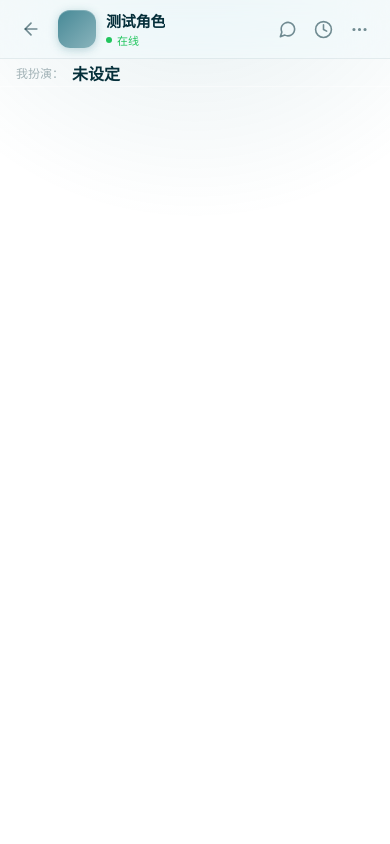
Test: 记忆面板：没配齐自己的 key 时给引导 › 没配齐也能看到已有记忆
The width and height of the screenshot is (390, 844).
What coordinates should you click on to do the following:
click the button named "更多"
I would click on:
 (359, 29)
Its box is [342,12,376,46].
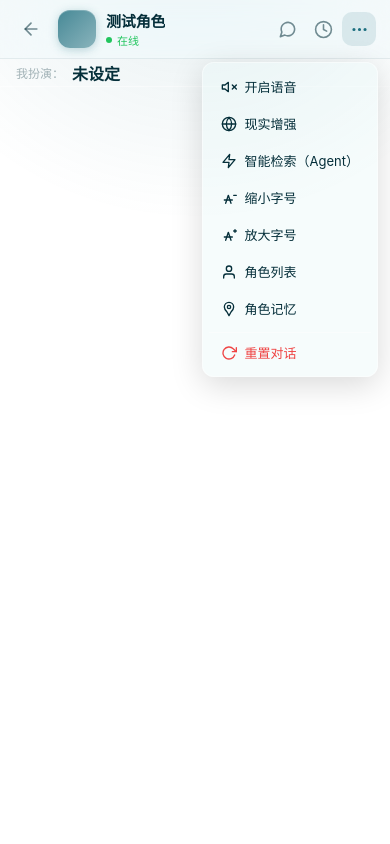
What coordinates should you click on to do the following:
click the button with class "chat-more-item" showing "角色记忆"
I would click on:
 (290, 308)
Its box is [208,291,371,326].
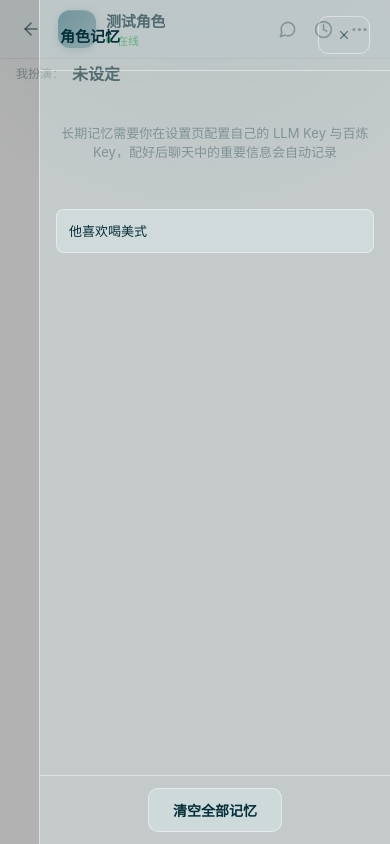
expect the element with class "memory-panel" is shown: met
expect the element with class "memory-panel" shows "他喜欢喝美式": met, box [69,223,147,239]
expect the text "长期记忆需要你在设置页配置自己的 LLM Key 与百炼 Key，配好后聊天中的重要信息会自动记录" is shown: met, box [61,125,369,160]
